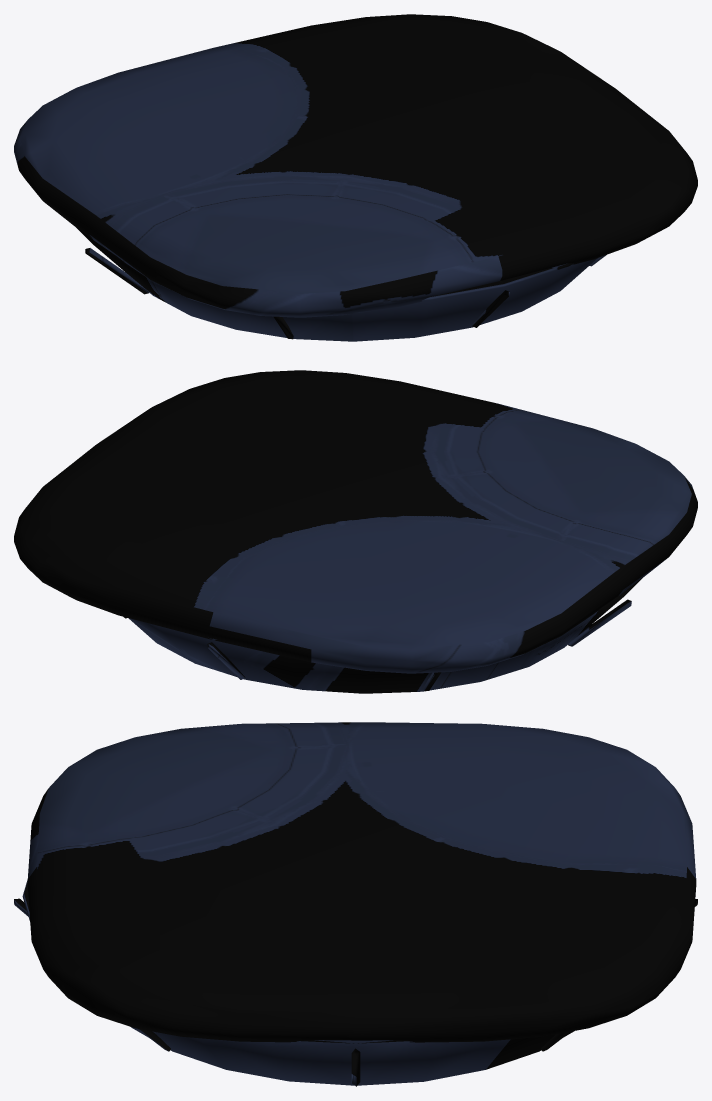
Rendered from Albatros_Gorra.fbx.
3 views of the same model, one above another, from view 1: azimuth 30°, elevation 25°; view 2: azimuth 150°, elevation 25°; view 3: azimuth 270°, elevation 25° (orthographic). The views are drawn at different scales.
Parts seen in each view (by area): view 1: Albatros_Gorra; view 2: Albatros_Gorra; view 3: Albatros_Gorra.
Part boxes in pixels (x1=…): Albatros_Gorra: x1=14, y1=14, x2=697, y2=341; Albatros_Gorra: x1=14, y1=370, x2=697, y2=693; Albatros_Gorra: x1=14, y1=722, x2=697, y2=1086.
Bounding box in the file's own units: 2.14 × 0.4027 × 2.03.
